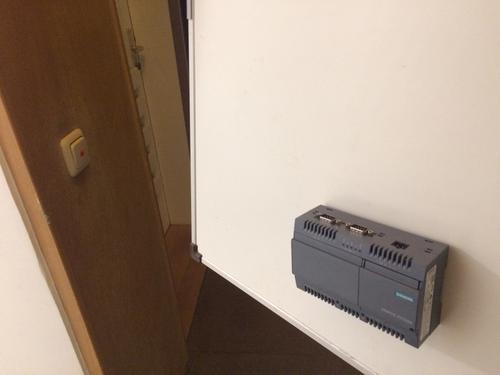iot2000: (291, 204, 451, 351)
